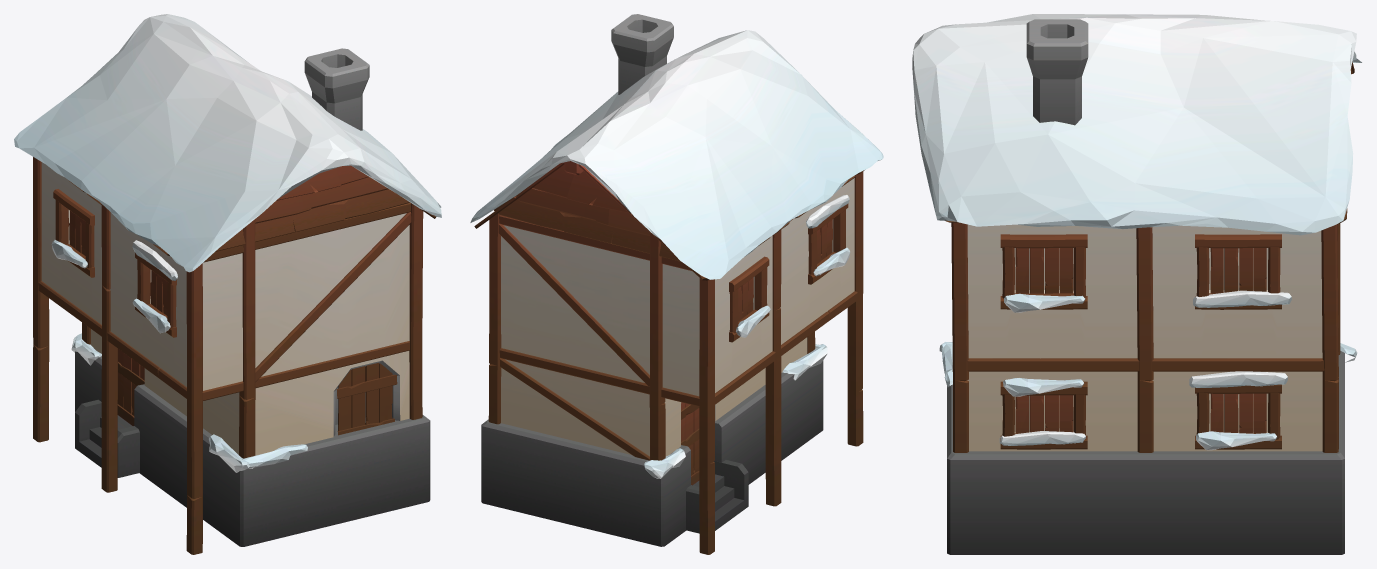
The picture shows the model from 3 angles, left to right: view 1: azimuth 30°, elevation 25°; view 2: azimuth 150°, elevation 25°; view 3: azimuth 270°, elevation 25°; orthographic projection. The views are drawn at different scales.
Parts seen in each view (by area): view 1: SnowyTownHouse2; view 2: SnowyTownHouse2; view 3: SnowyTownHouse2.
Part boxes in pixels (x1,y1,x2,y2): SnowyTownHouse2: [14, 14, 441, 554]; SnowyTownHouse2: [470, 14, 883, 554]; SnowyTownHouse2: [912, 14, 1361, 554].
Bounding box in the file's own units: 8.33 × 12.22 × 10.06.
Materials: 1 (1 with a texture image).
